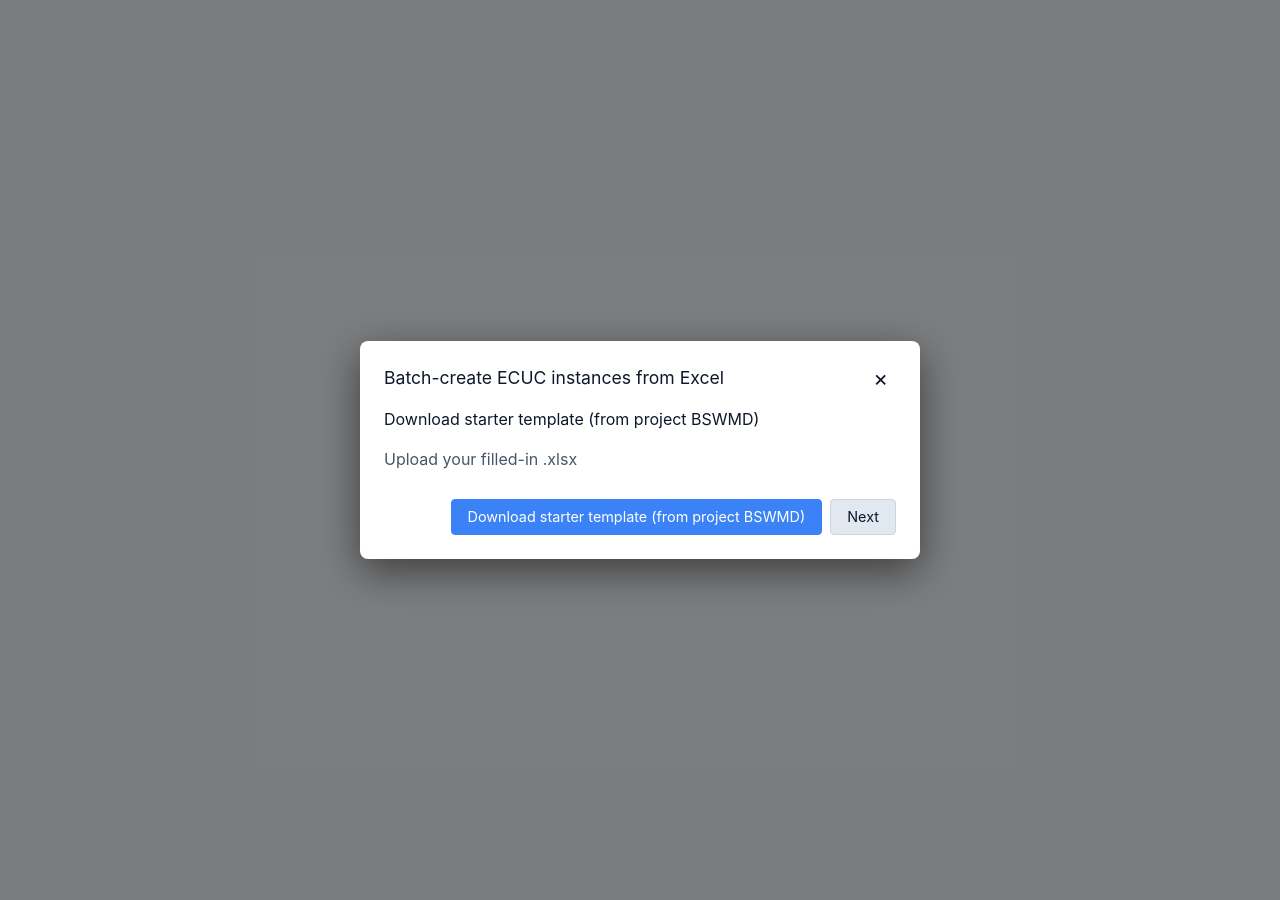
Test: XlsxBatchWizard (v1.25.0 T5) › step 2 file upload invokes xlsxParseBatch IPC + renders collision table
Later steps or results of the test are not shown.
What coordinates should you click on to do the following:
click the button with test id "xlsx-wizard-step1-next"
I would click on:
 (863, 517)
Its box is top-left (830, 499), bottom-right (896, 535).
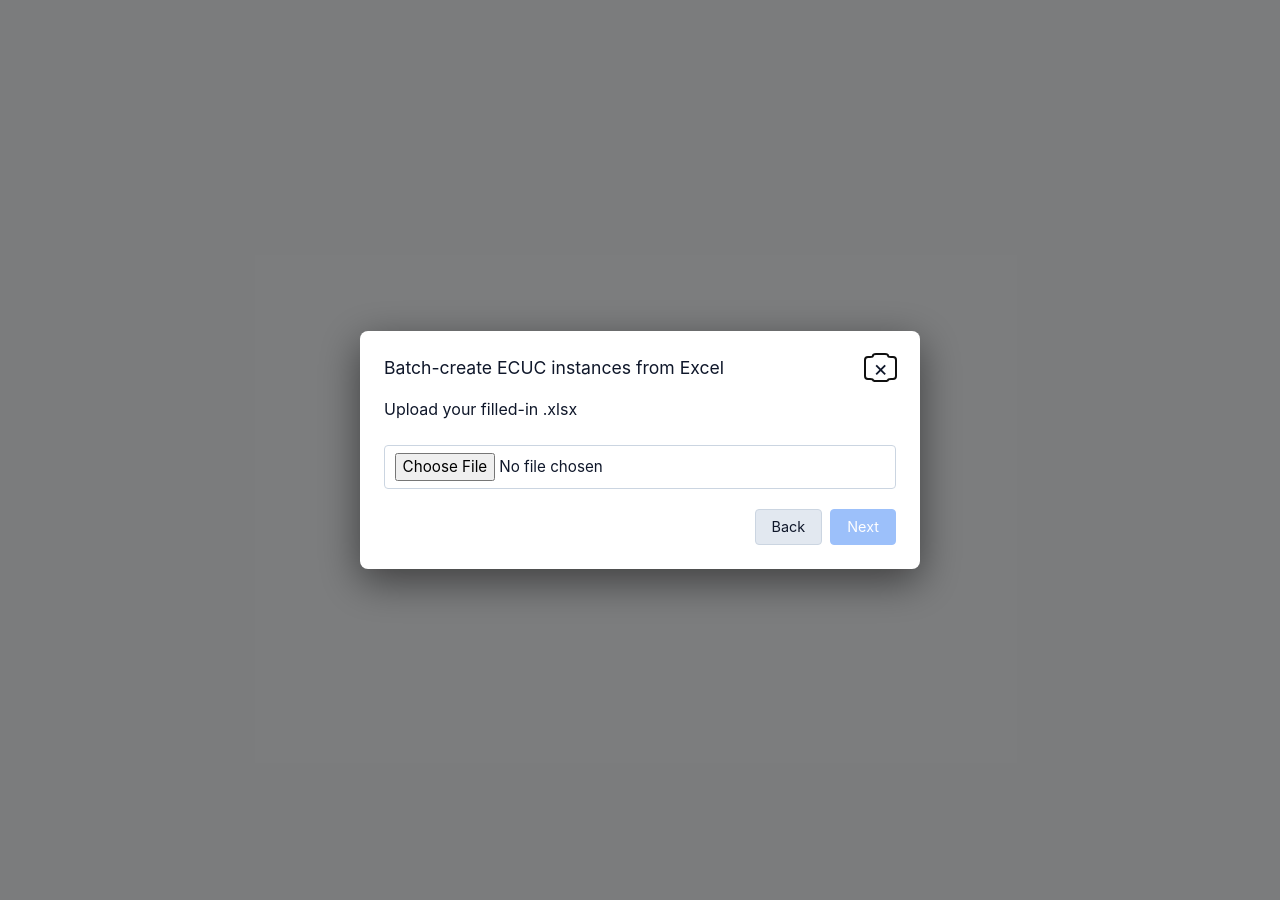
Expected: the element with test id "xlsx-wizard-step2" is shown, top-left (384, 397), bottom-right (896, 545)
